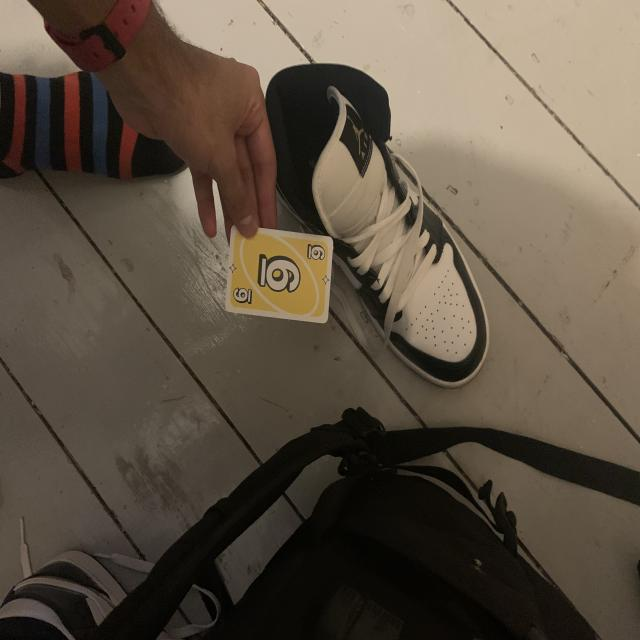lyellow-6: (304, 241, 328, 266)
